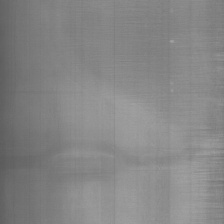waist_folding: (188, 20, 223, 224)
